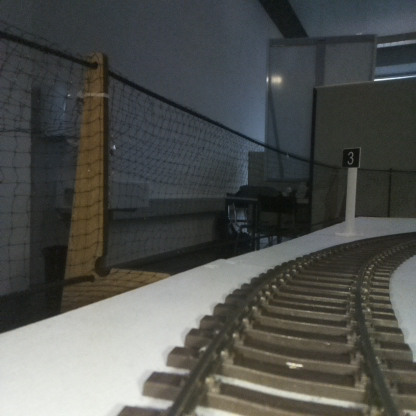black-info-3: (342, 148, 359, 234)
